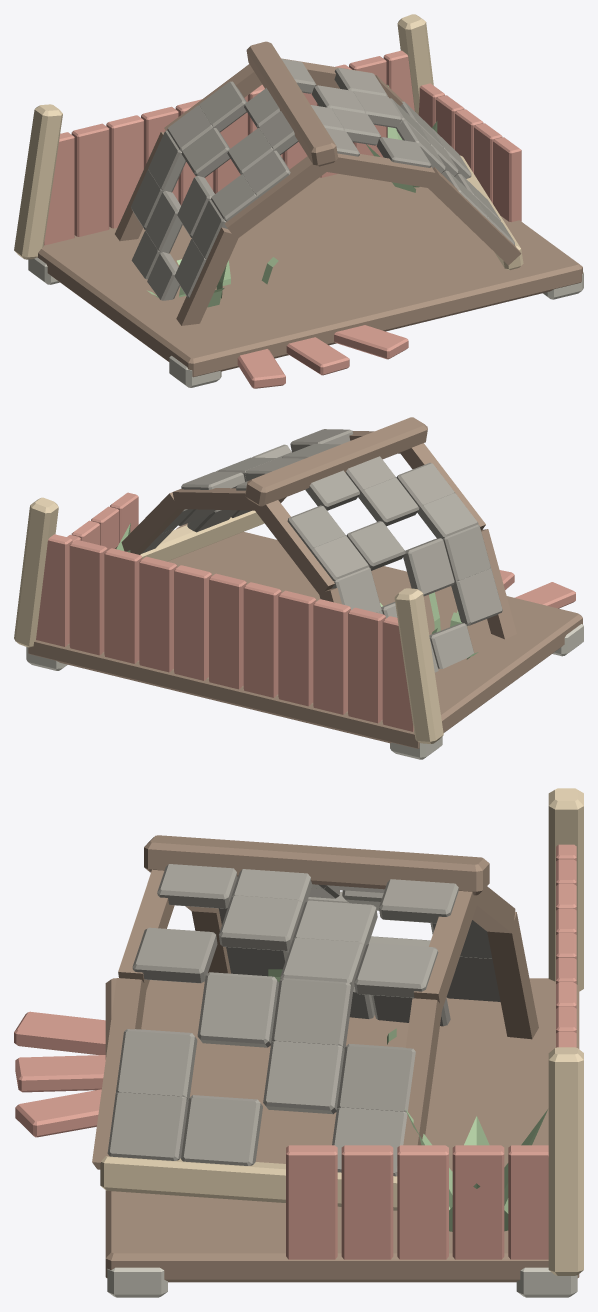
The model's file is crafted-barn-1-abandoned.glb.
3 views of the same model, one above another, from view 1: azimuth 30°, elevation 25°; view 2: azimuth 150°, elevation 25°; view 3: azimuth 270°, elevation 25° (orthographic). The views are drawn at different scales.
Visible parts, largest first — view 1: floor, broken-upright, fallen-ridge-cap, siding-1, siding-2, siding, fallen-barge-board-3, fallen-barge-board-7, fallen-barge-board-1, siding-15, fallen-barge-board-5, broken-upright-1 (+43 smaller); view 2: floor, fallen-ridge-cap, broken-upright, siding-3, siding-8, siding-9, siding-4, siding-7, siding-2, siding-5, siding-6, siding-1 (+33 smaller); view 3: floor, fallen-ridge-cap, broken-upright-1, fallen-eave-fascia-1, siding-14, siding-12, siding-13, siding-15, fallen-roof-tile-25, fallen-roof-tile-27, fallen-roof-tile-30, fallen-roof-tile-31 (+31 smaller).
Boxes of the visible parts, x1,y1,x2,y2 form: floor: (37,174,582,377); broken-upright: (14,104,62,259); fallen-ridge-cap: (246,41,338,166); siding-1: (71,123,109,236); siding-2: (106,115,143,228); siding: (44,132,74,245); fallen-barge-board-3: (224,156,329,238); fallen-barge-board-7: (428,167,521,265); fallen-barge-board-1: (176,227,239,325); siding-15: (493,137,521,221); fallen-barge-board-5: (327,153,435,188); broken-upright-1: (397,14,433,114); floor: (28,523,582,748); fallen-ridge-cap: (245,417,427,506); broken-upright: (394,588,443,743); siding-3: (278,590,316,706); siding-8: (104,548,142,663); siding-9: (69,539,107,655); siding-4: (243,582,281,697); siding-7: (139,556,177,672); siding-2: (313,599,350,714); siding-5: (209,573,246,689); siding-6: (174,565,211,680); siding-1: (348,607,385,723); floor: (105,978,579,1282); fallen-ridge-cap: (144,835,489,895); broken-upright-1: (548,1047,583,1275); fallen-eave-fascia-1: (100,1156,397,1210); siding-14: (341,1145,393,1259); siding-12: (452,1145,504,1259); siding-13: (397,1145,448,1259); siding-15: (286,1145,337,1259); fallen-roof-tile-25: (197,972,278,1047); fallen-roof-tile-27: (263,1041,344,1114); fallen-roof-tile-30: (181,1095,262,1165); fallen-roof-tile-31: (107,1092,188,1160).
Bounding box in the file's own units: 2.2 × 1.07 × 1.78.
